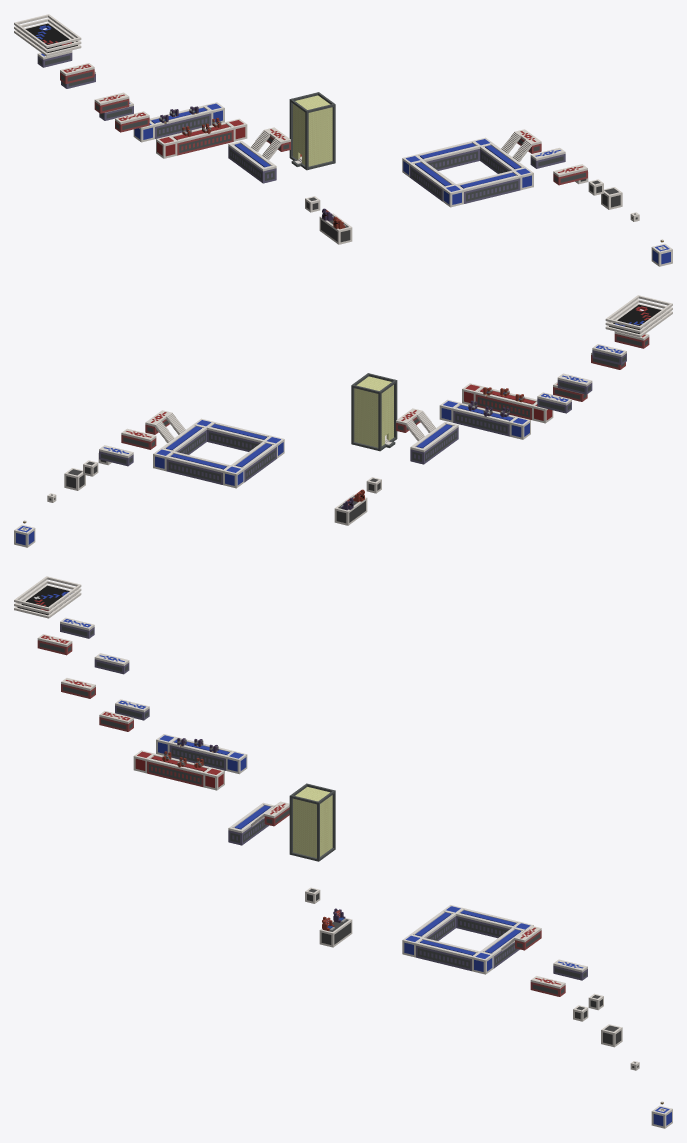
Rendered from minecraft.obj.
3 renders of one model, top to bottom at view 1: azimuth 30°, elevation 25°; view 2: azimuth 150°, elevation 25°; view 3: azimuth 330°, elevation 25°, orthographic.
Bounding box in the file's own units: 329 × 188 × 43.
